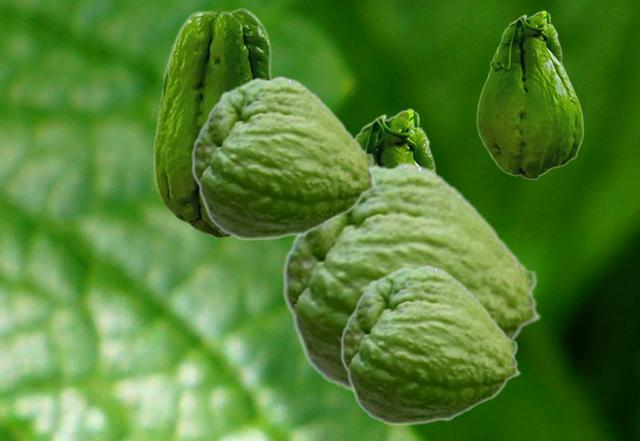sayote: (282, 161, 542, 391), (191, 75, 377, 240), (340, 264, 521, 425), (153, 7, 273, 238), (476, 10, 583, 179), (355, 108, 438, 170)
